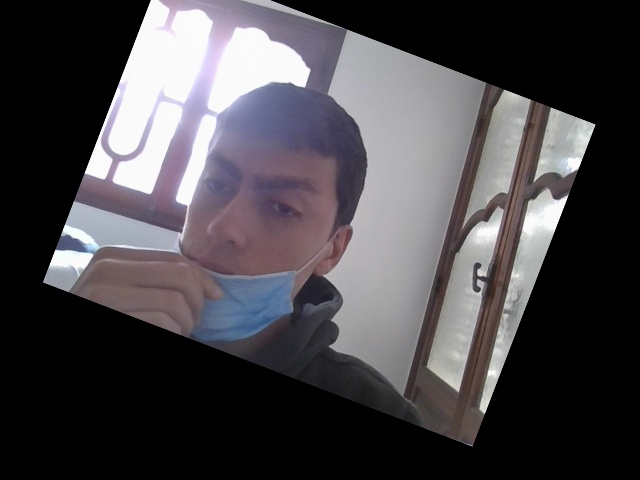mask_weared_incorrect: (170, 119, 340, 338)
